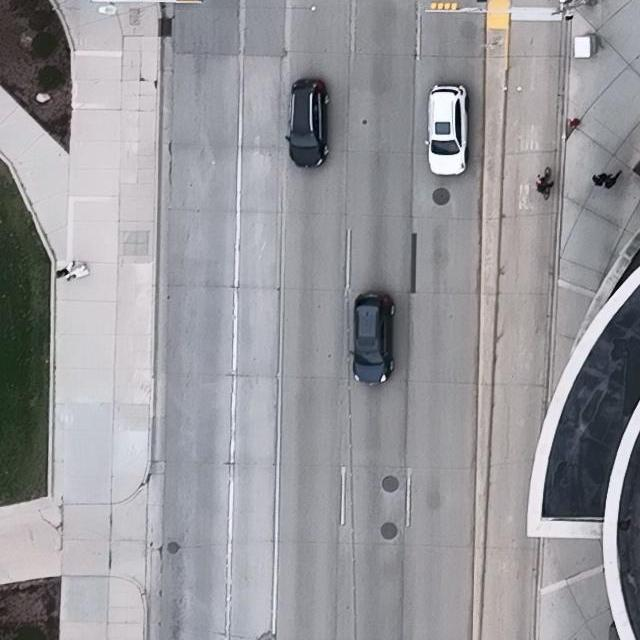car: (350, 291, 396, 386), (423, 83, 469, 175), (286, 77, 329, 169)
